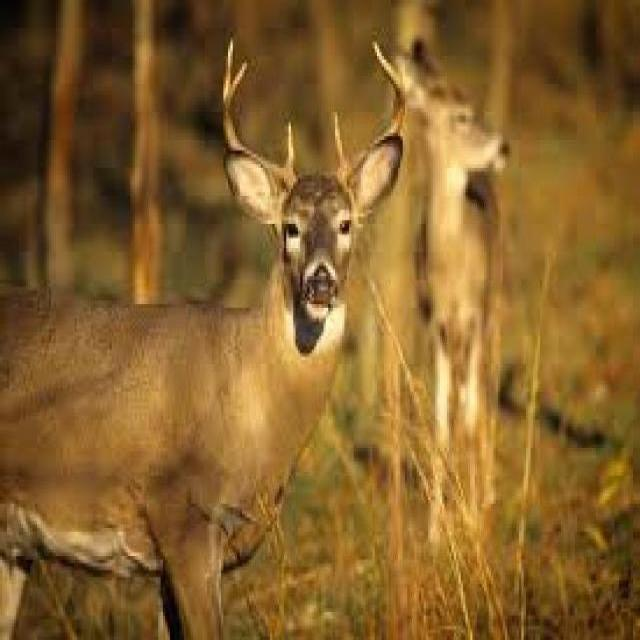deer: (3, 49, 411, 640), (392, 44, 510, 544)
